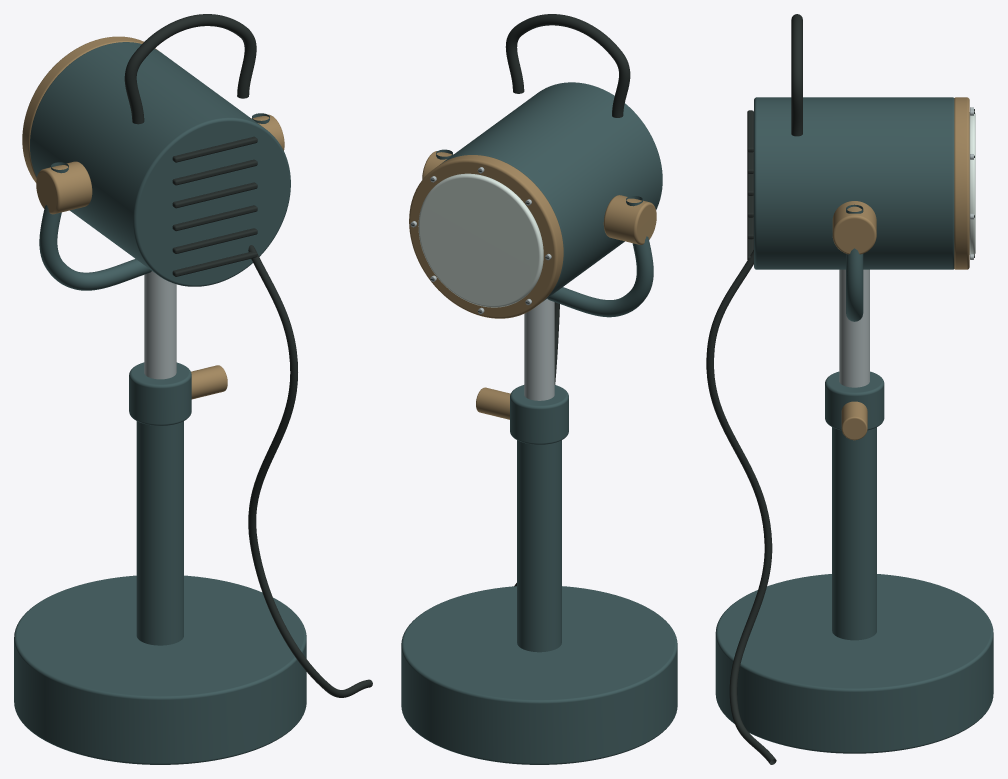
The model's file is projection_lamp.glb.
3 views of the same model, side by side, from view 1: azimuth 30°, elevation 25°; view 2: azimuth 150°, elevation 25°; view 3: azimuth 270°, elevation 25° (orthographic). The views are drawn at different scales.
Parts seen in each view (by area): view 1: Weighted cast foot, Projector barrel, Outer stand tube, Power cable, Telescopic chrome tube, Carrying handle, Stand collar, Tilting yoke, Yoke pivot, Lens retaining ring, Collar thumbscrew, Cooling slot.002 (+5 smaller); view 2: Weighted cast foot, Projector barrel, Optical glass, Outer stand tube, Lens retaining ring, Telescopic chrome tube, Carrying handle, Stand collar, Tilting yoke, Yoke pivot, Collar thumbscrew; view 3: Weighted cast foot, Projector barrel, Outer stand tube, Power cable, Telescopic chrome tube, Lens retaining ring, Stand collar, Yoke pivot.001, Carrying handle, Tilting yoke, Optical glass, Collar thumbscrew.
Boxes of the visible parts, <box> form: Weighted cast foot: <box>14,575,306,764</box>; Projector barrel: <box>30,42,290,286</box>; Outer stand tube: <box>136,421,183,645</box>; Power cable: <box>248,245,372,697</box>; Telescopic chrome tube: <box>144,271,176,379</box>; Carrying handle: <box>124,14,256,124</box>; Stand collar: <box>129,362,191,425</box>; Tilting yoke: <box>39,113,269,290</box>; Yoke pivot: <box>36,161,92,214</box>; Lens retaining ring: <box>22,36,158,182</box>; Collar thumbscrew: <box>191,365,227,399</box>; Cooling slot.002: <box>172,205,257,231</box>; Weighted cast foot: <box>401,586,677,764</box>; Projector barrel: <box>442,82,662,301</box>; Optical glass: <box>418,173,543,307</box>; Outer stand tube: <box>517,440,561,652</box>; Lens retaining ring: <box>409,155,563,318</box>; Telescopic chrome tube: <box>524,298,554,400</box>; Carrying handle: <box>505,14,630,117</box>; Stand collar: <box>510,385,568,444</box>; Tilting yoke: <box>436,149,653,317</box>; Yoke pivot: <box>603,195,656,244</box>; Collar thumbscrew: <box>476,387,510,419</box>; Weighted cast foot: <box>715,574,993,753</box>; Projector barrel: <box>754,97,954,269</box>; Outer stand tube: <box>832,427,876,640</box>; Power cable: <box>706,250,776,764</box>; Telescopic chrome tube: <box>839,269,869,387</box>; Lens retaining ring: <box>954,97,969,269</box>; Stand collar: <box>825,371,884,430</box>; Yoke pivot.001: <box>832,201,876,254</box>; Carrying handle: <box>791,14,802,136</box>; Tilting yoke: <box>846,204,863,321</box>; Optical glass: <box>969,112,975,254</box>; Collar thumbscrew: <box>841,401,867,440</box>.
Size of the model in its own units: 0.6745 by 1.56 by 0.5994.
